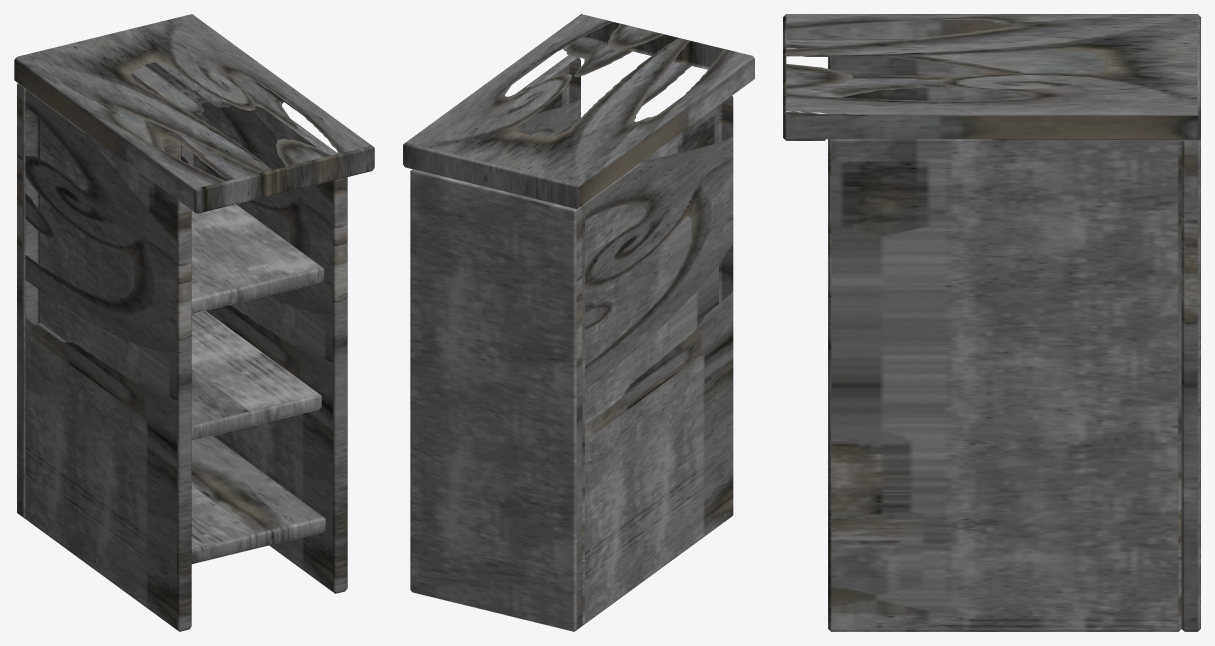
Rendered from SmallSideCabinet.fbx.
The picture shows the model from 3 angles, left to right: view 1: azimuth 30°, elevation 25°; view 2: azimuth 150°, elevation 25°; view 3: azimuth 270°, elevation 25°; orthographic projection. The views are drawn at different scales.
Parts seen in each view (by area): view 1: Cabinet_Side_B.013_Material_0, SmallSideCabinet, Cabinet_Side_B.014_Material_0, Cabinet_Shelf_C.003_Material_0, Cabinet_Shelf_C.004_Material_0, Cabinet_Shelf_C.005_Material_0, Cabinet_Back_E.003_Material_0; view 2: Cabinet_Back_E.003_Material_0, Cabinet_Side_B.013_Material_0, SmallSideCabinet, Cabinet_Side_B.014_Material_0; view 3: Cabinet_Side_B.014_Material_0, SmallSideCabinet, Cabinet_Back_E.003_Material_0, Cabinet_Side_B.013_Material_0.
Part boxes in pixels (x1,y1,x2,y2): Cabinet_Side_B.013_Material_0: [25, 89, 191, 631]; SmallSideCabinet: [14, 14, 374, 213]; Cabinet_Side_B.014_Material_0: [181, 102, 347, 593]; Cabinet_Shelf_C.003_Material_0: [191, 435, 325, 564]; Cabinet_Shelf_C.004_Material_0: [37, 311, 321, 440]; Cabinet_Shelf_C.005_Material_0: [191, 204, 324, 313]; Cabinet_Back_E.003_Material_0: [17, 83, 180, 518]; Cabinet_Back_E.003_Material_0: [410, 169, 582, 631]; Cabinet_Side_B.013_Material_0: [581, 96, 733, 625]; SmallSideCabinet: [403, 14, 754, 209]; Cabinet_Side_B.014_Material_0: [516, 55, 580, 134]; Cabinet_Side_B.014_Material_0: [828, 139, 1181, 631]; SmallSideCabinet: [783, 14, 1200, 140]; Cabinet_Back_E.003_Material_0: [1181, 138, 1200, 631]; Cabinet_Side_B.013_Material_0: [828, 56, 1028, 115].
Bounding box in the file's own units: 37 × 90 × 65.
